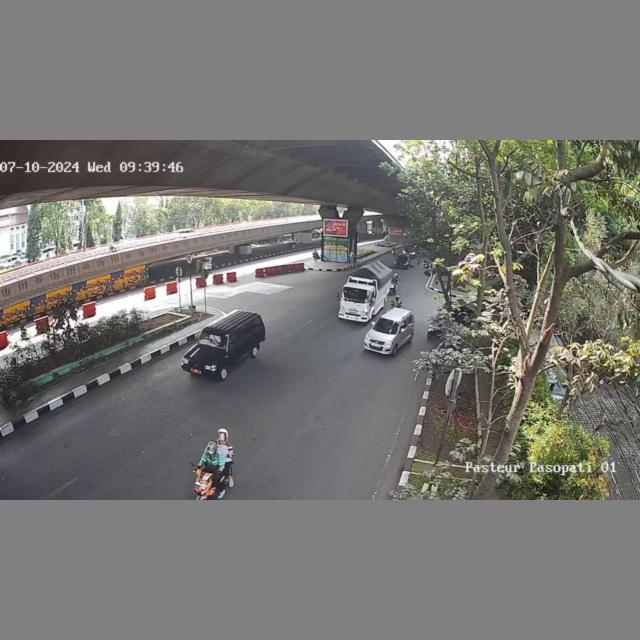windshield: (196, 330, 229, 348), (373, 317, 401, 334), (343, 288, 370, 301)
